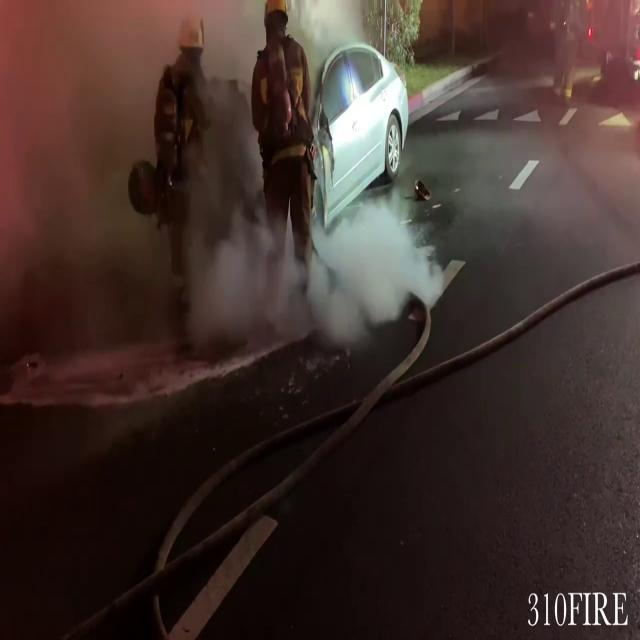Smoke: (0, 0, 290, 374), (211, 178, 434, 356)
